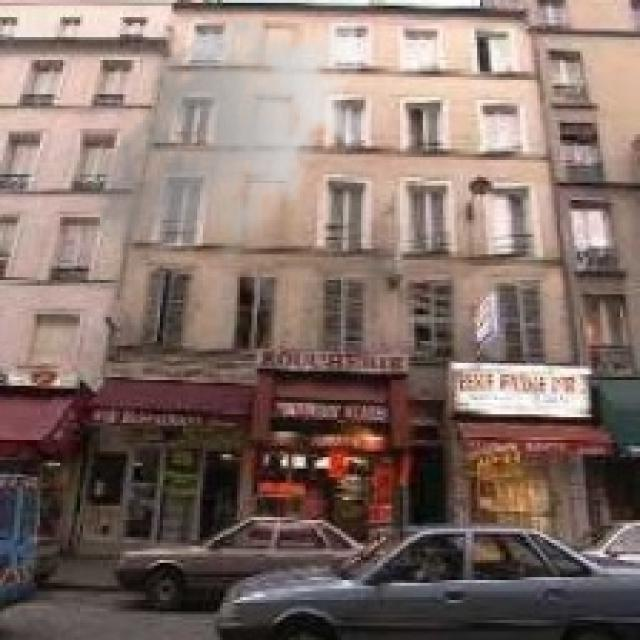Smoke: (94, 6, 369, 286)
